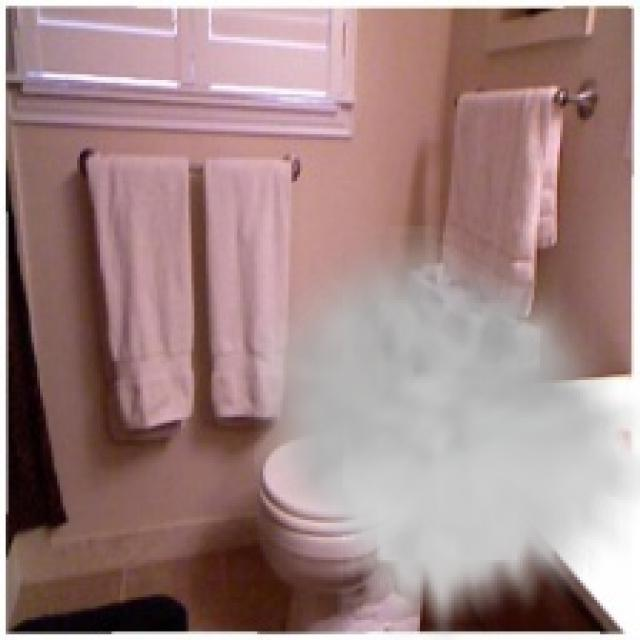smoke: (254, 226, 637, 637)
